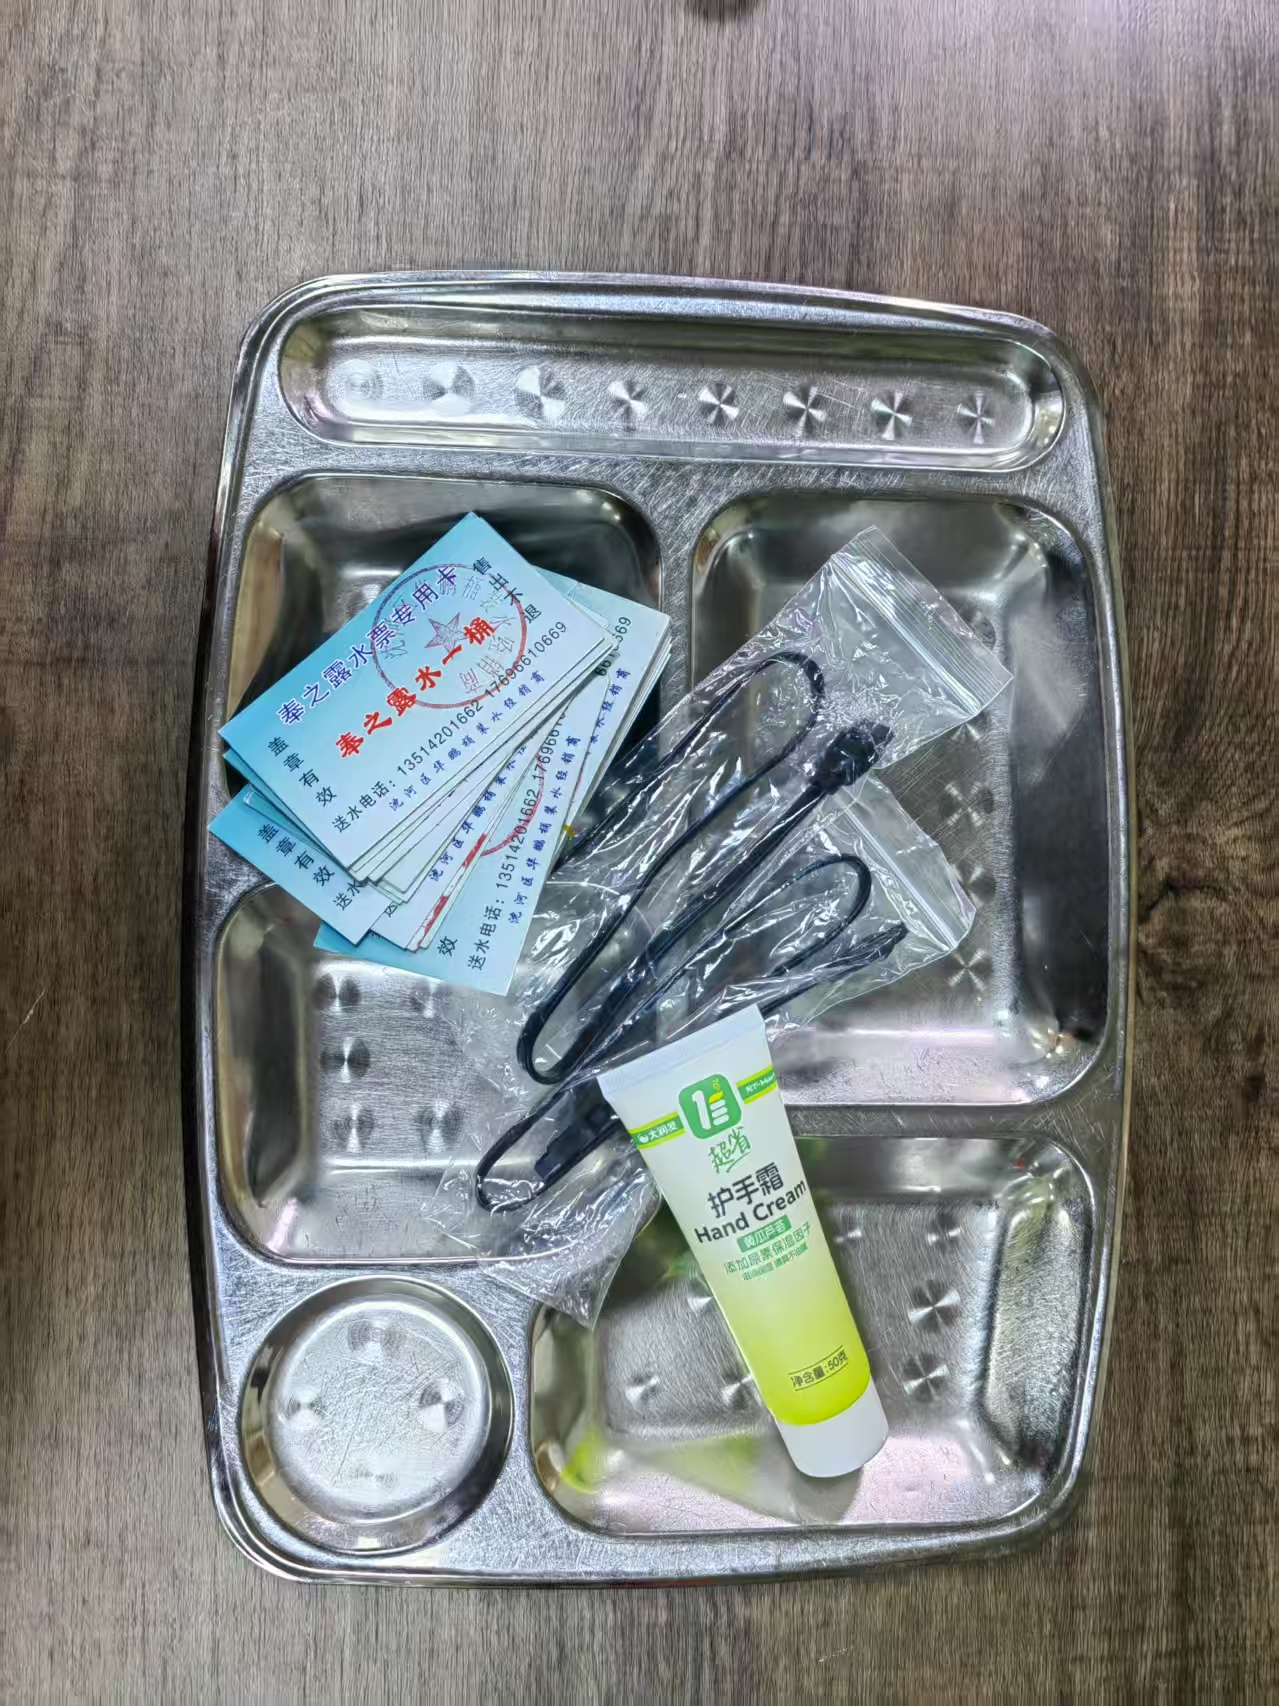plate: (182, 267, 1144, 1590)
severe: (208, 508, 1016, 1482)
